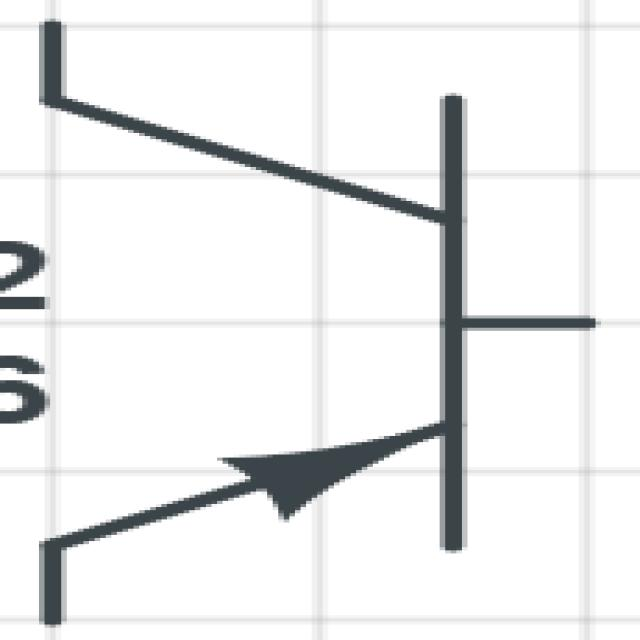pnp_bjt: (36, 12, 640, 638)
